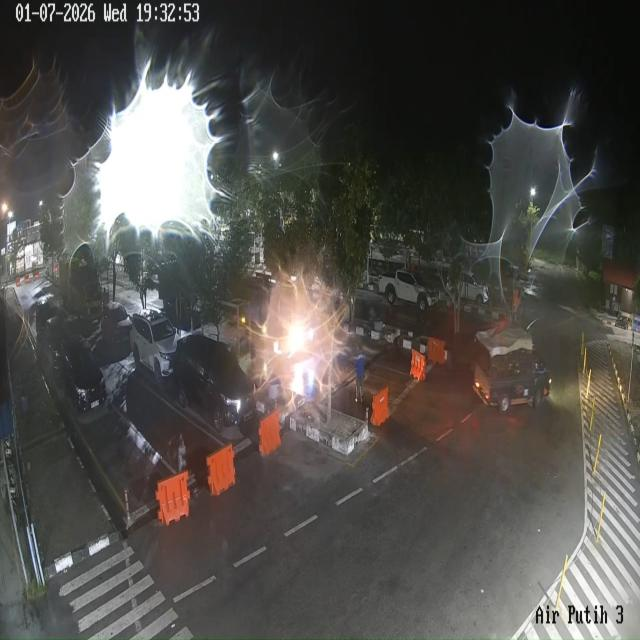Golongan IVA: (173, 334, 256, 433), (130, 309, 178, 383), (61, 335, 106, 413), (37, 313, 70, 371), (100, 302, 132, 344), (35, 297, 59, 336)
Golongan IVB: (473, 323, 552, 413), (378, 270, 439, 311)
Golongan VB: (58, 243, 103, 320)
